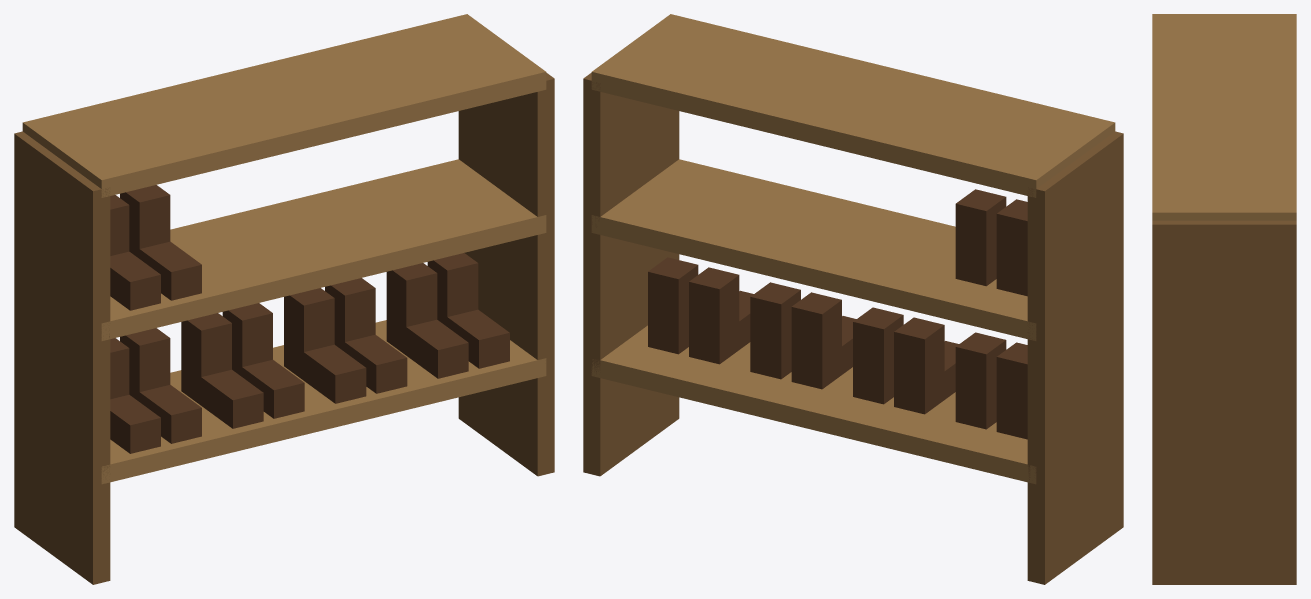
Rendered from pile_shoes_1.glb.
The picture shows the model from 3 angles, left to right: view 1: azimuth 30°, elevation 25°; view 2: azimuth 150°, elevation 25°; view 3: azimuth 270°, elevation 25°; orthographic projection. The views are drawn at different scales.
Visible parts, largest first — view 1: pile_shoes_1; view 2: pile_shoes_1; view 3: pile_shoes_1.
Boxes of the visible parts, left/top/right/bottom form: pile_shoes_1: left=14, top=14, right=554, bottom=584; pile_shoes_1: left=583, top=14, right=1123, bottom=584; pile_shoes_1: left=1152, top=14, right=1296, bottom=584.
Bounding box in the file's own units: 1.35 × 1.12 × 0.4.
